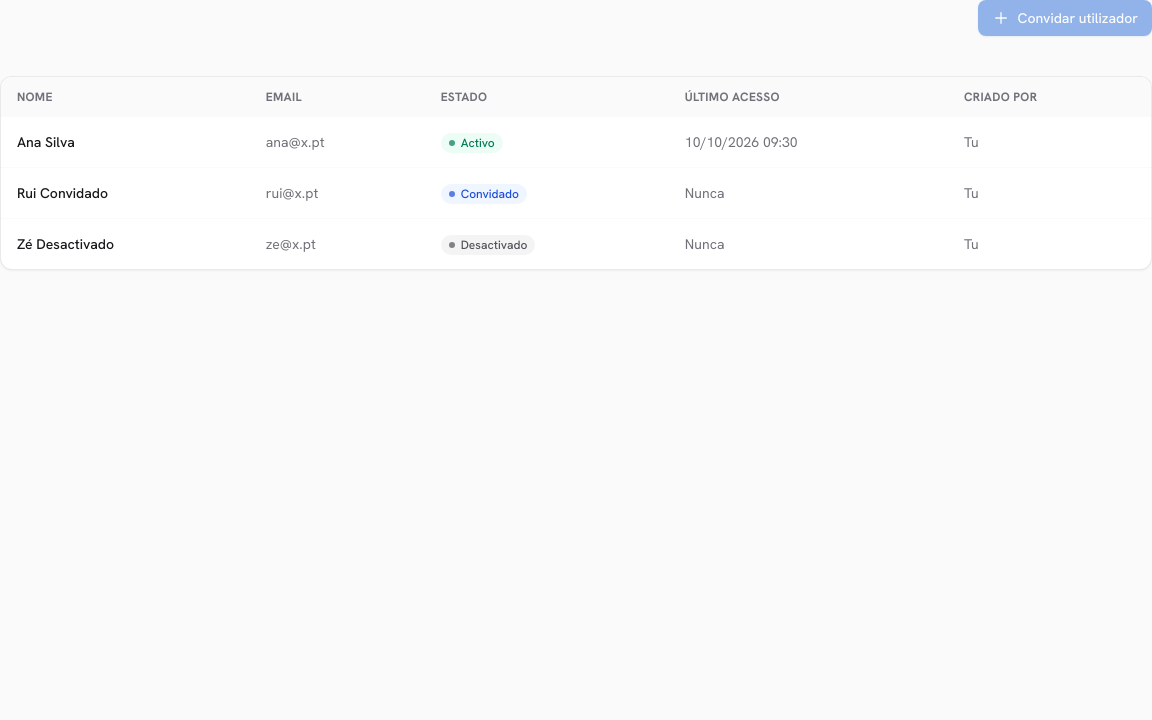
Scenario: Equipa — sessão de suporte › lê a lista, mas todas as escritas ficam desactivadas com o motivo
The width and height of the screenshot is (1152, 720).
Expected: the button "Convidar utilizador" is disabled, top-left (978, 0), bottom-right (1151, 36)
Click the row named "Abrir Ana Silva".
click(46, 142)  # box top-left (1, 117), bottom-right (1151, 168)
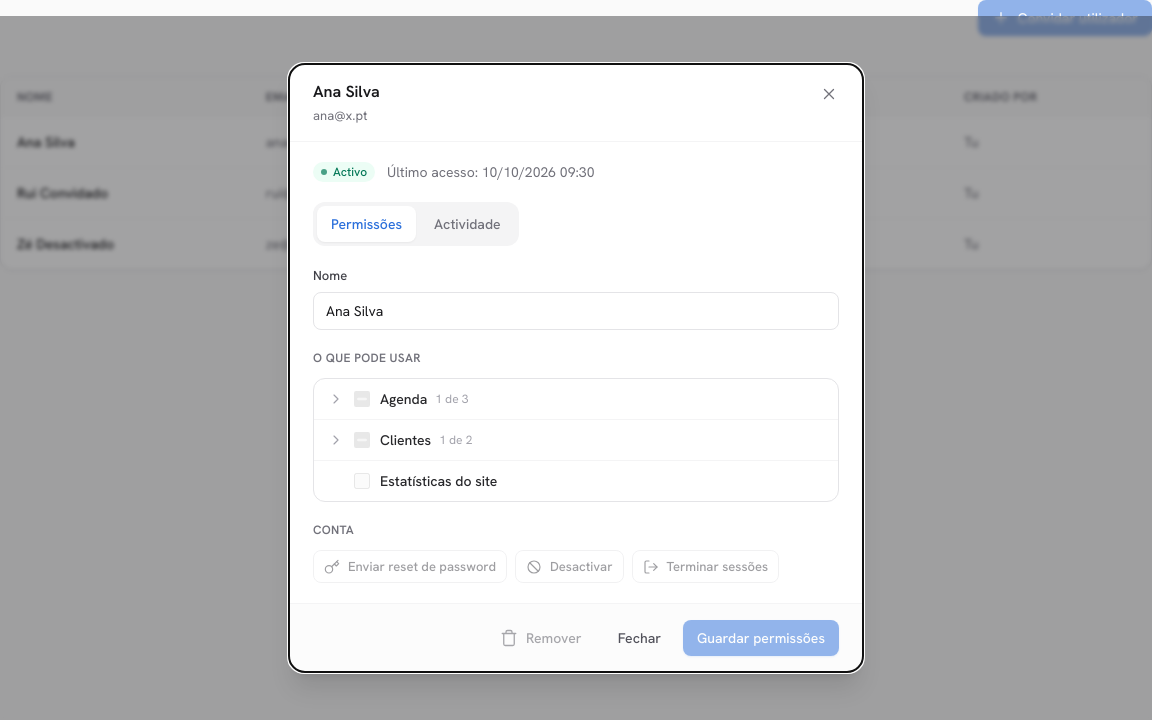
Result: the button "Guardar permissões" is disabled at top-left (683, 620), bottom-right (839, 656)
Result: the button "Remover" is disabled at top-left (486, 620), bottom-right (596, 656)
Result: the button "Desactivar" is disabled at top-left (515, 550), bottom-right (624, 583)
